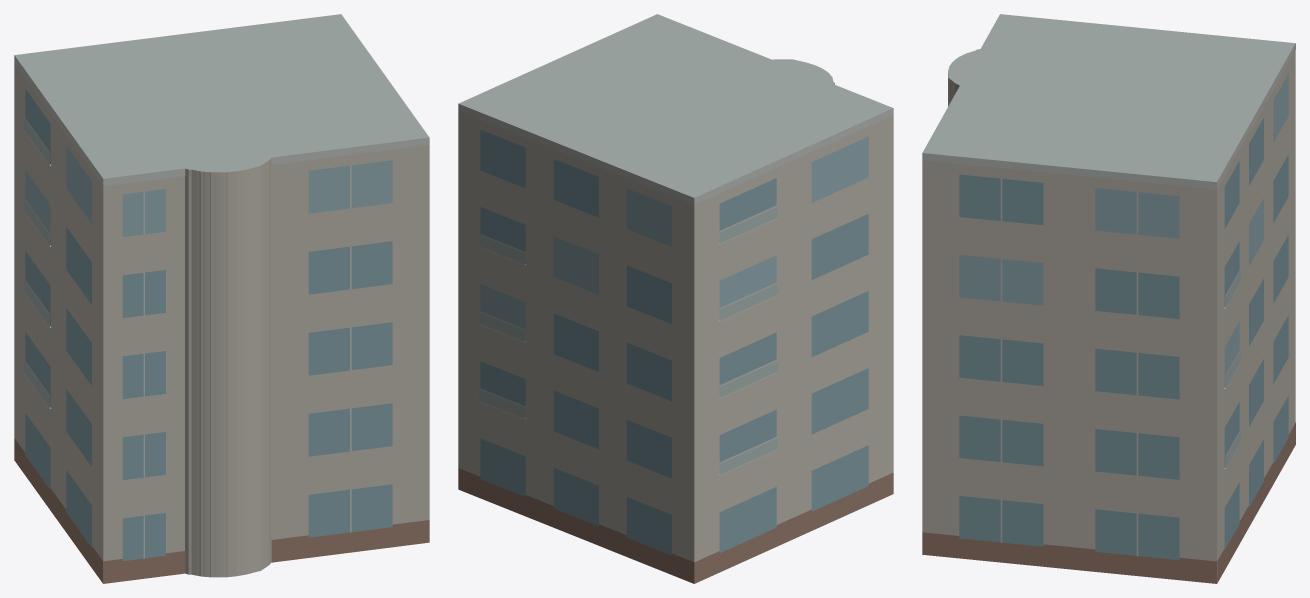
Rendered from survey-upis-32583992.glb.
The picture shows the model from 3 angles, left to right: view 1: azimuth 30°, elevation 25°; view 2: azimuth 150°, elevation 25°; view 3: azimuth 270°, elevation 25°; orthographic projection. The views are drawn at different scales.
Visible parts, largest first — view 1: survey-upis-32583992.tmp; view 2: survey-upis-32583992.tmp; view 3: survey-upis-32583992.tmp.
Boxes of the visible parts, left/top/right/bottom form: survey-upis-32583992.tmp: left=14, top=14, right=429, bottom=583; survey-upis-32583992.tmp: left=458, top=14, right=893, bottom=583; survey-upis-32583992.tmp: left=922, top=14, right=1295, bottom=583.
Size of the model in its own units: 11.95 by 13.3 by 11.21.
